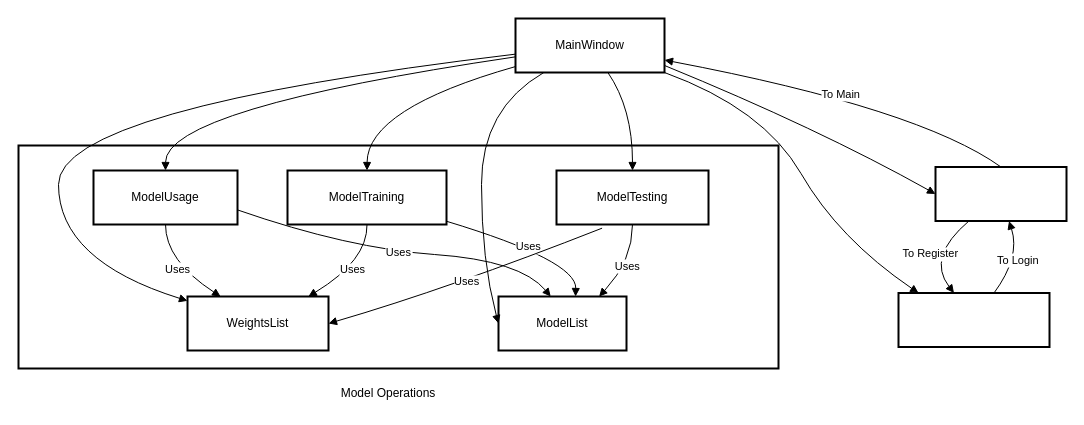
Some shapes in this 1084 by 425 pixel diagram are drawn without their labels. The shapes that lost their labels are listed below. From the top down, each one's box as (x1, y1, x2, y2) in pixels, then its label:
(934, 166, 1067, 222): LoginPage
(897, 292, 1050, 348): RegisterPage
